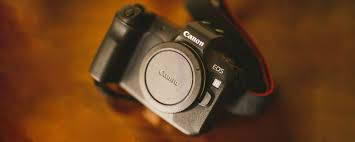camera: (98, 4, 258, 134)
